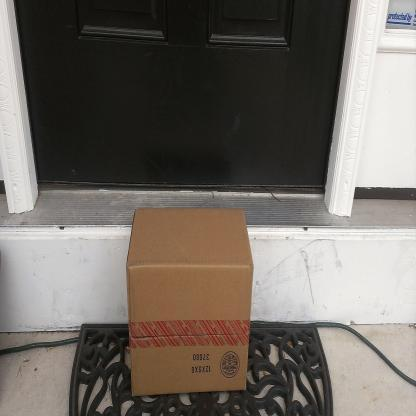package: (125, 207, 255, 400)
